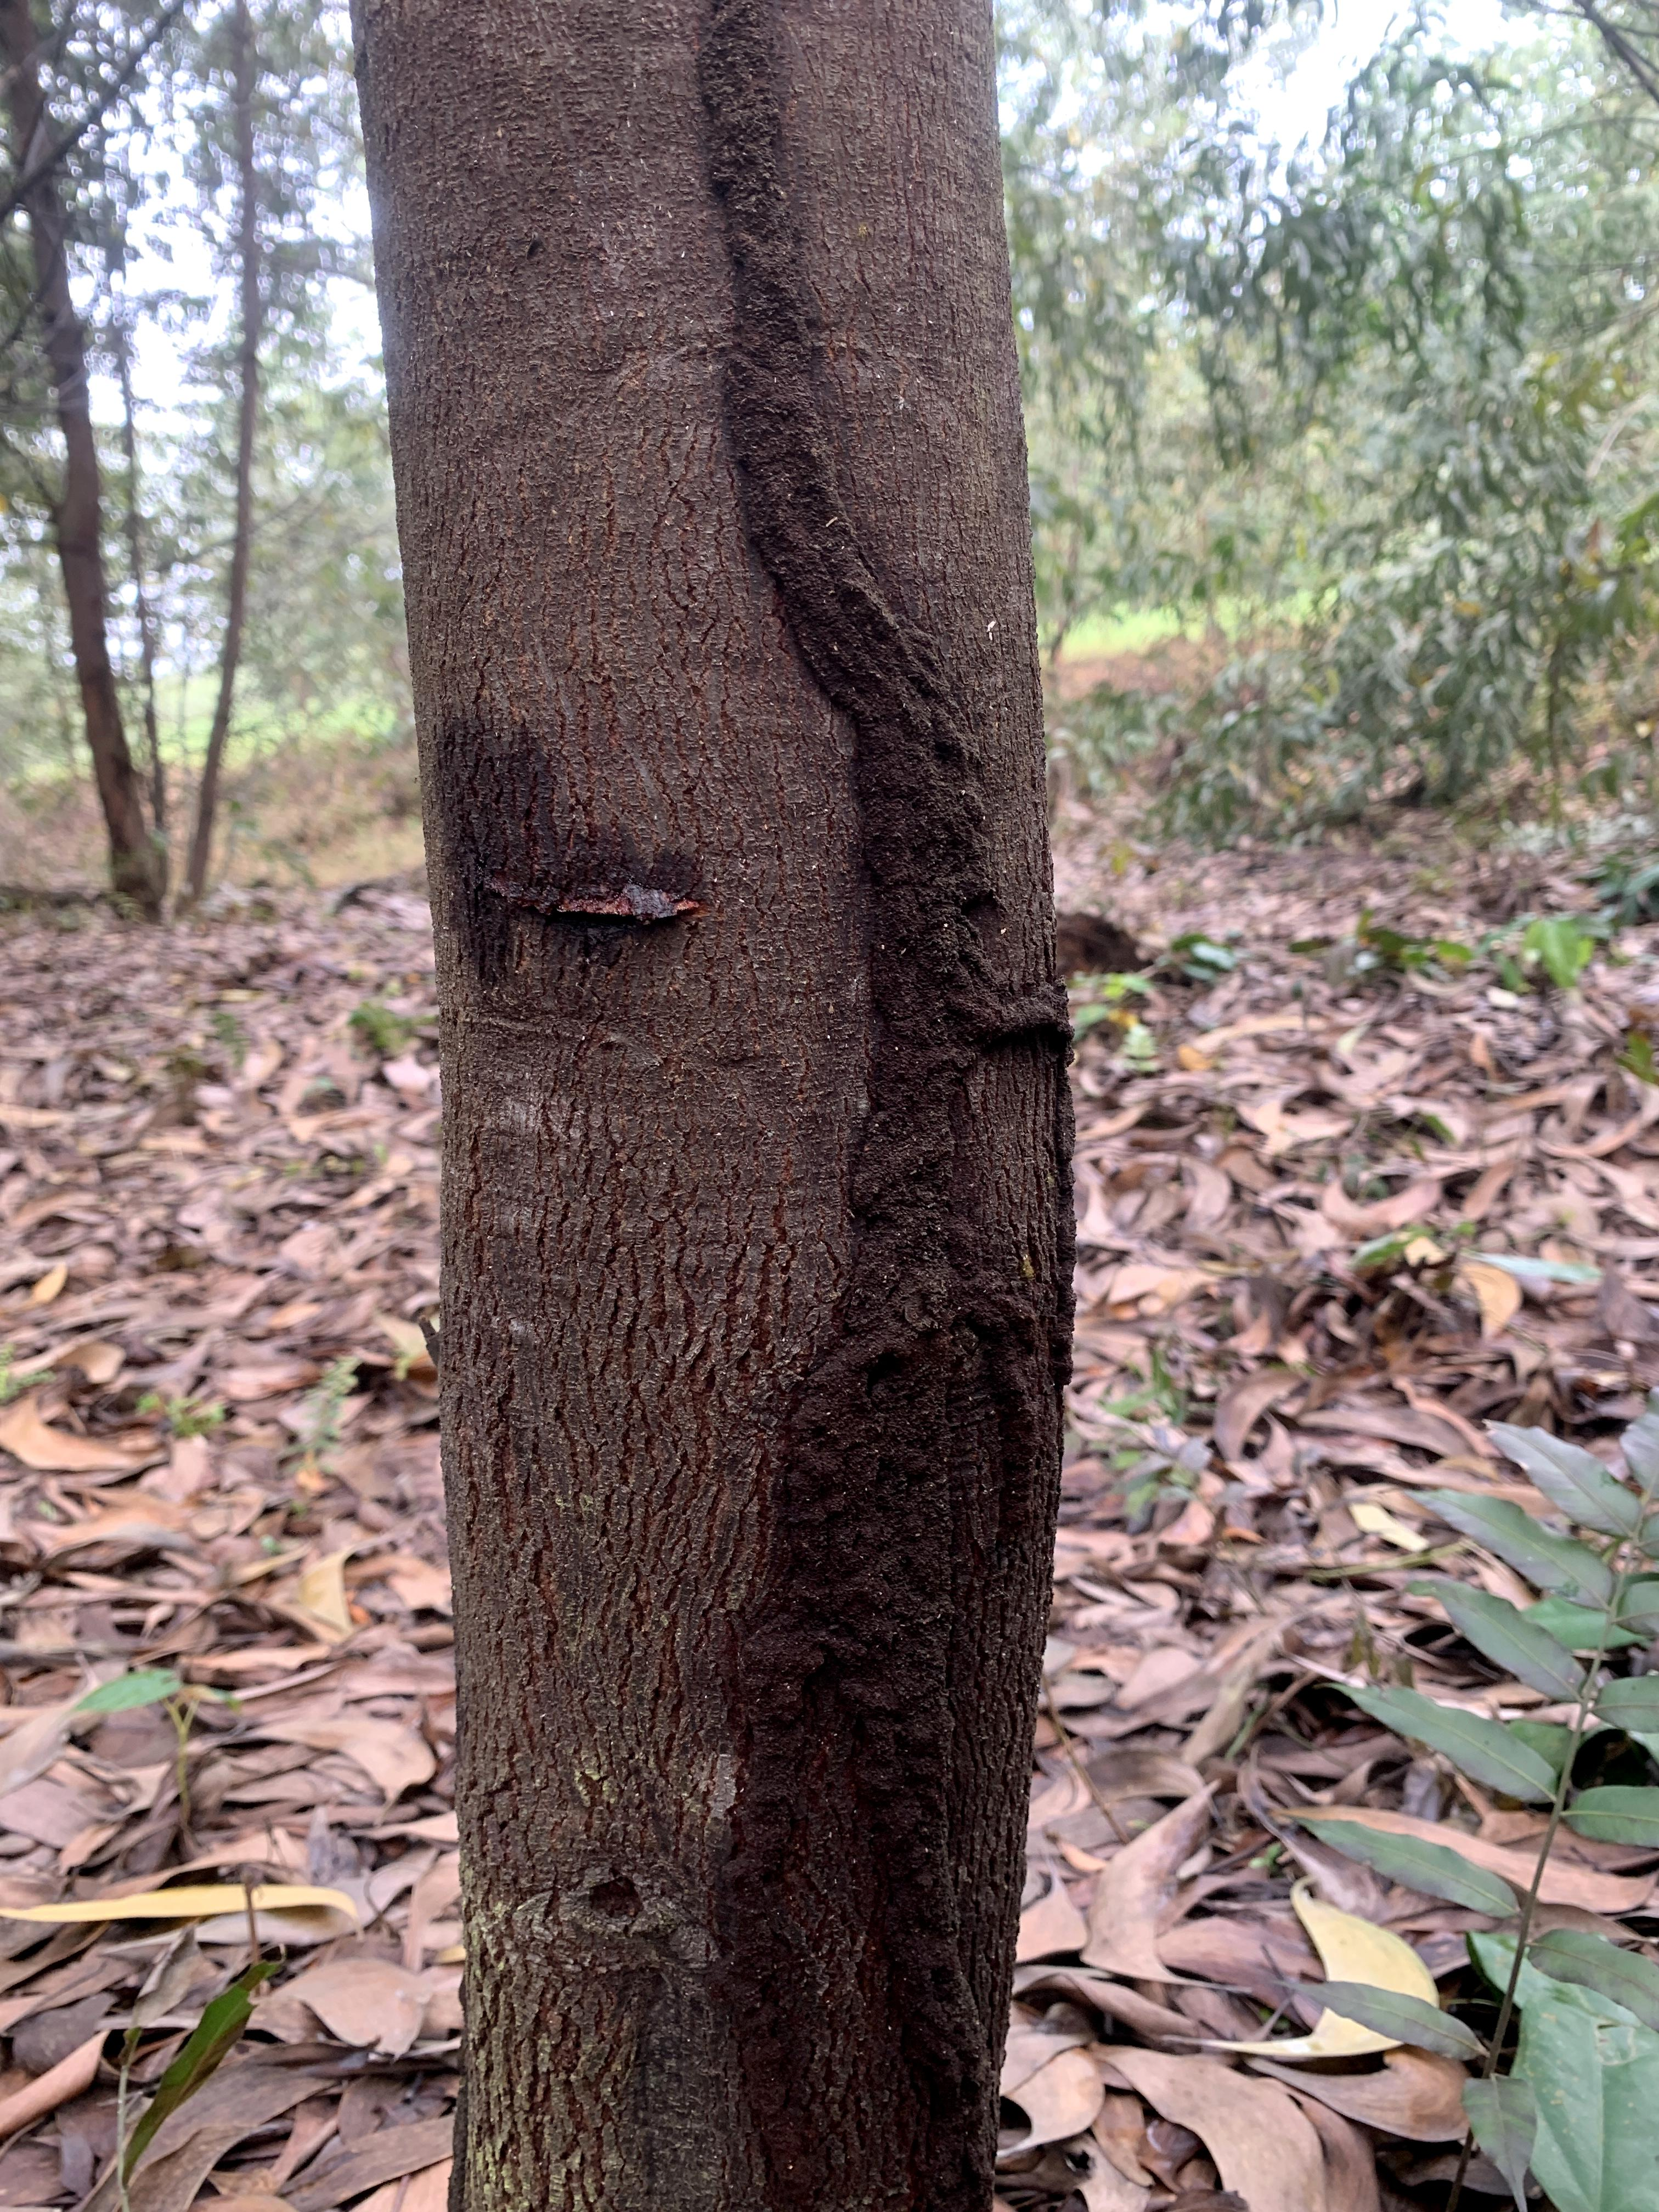Termite - Nest: (742, 467, 1021, 2212)
